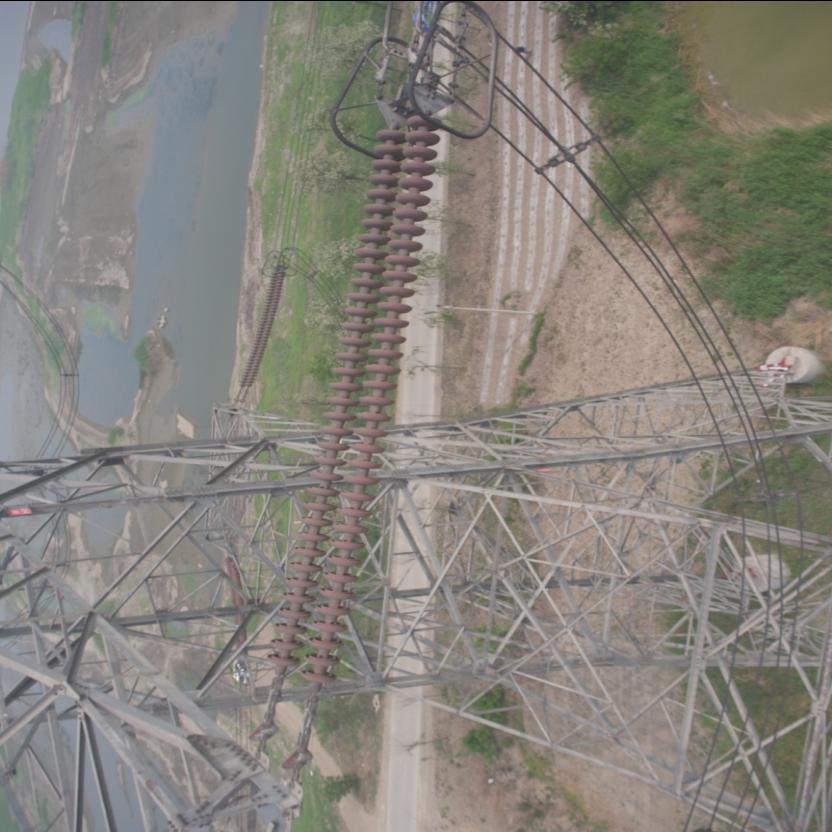insulator: (264, 103, 444, 712)
